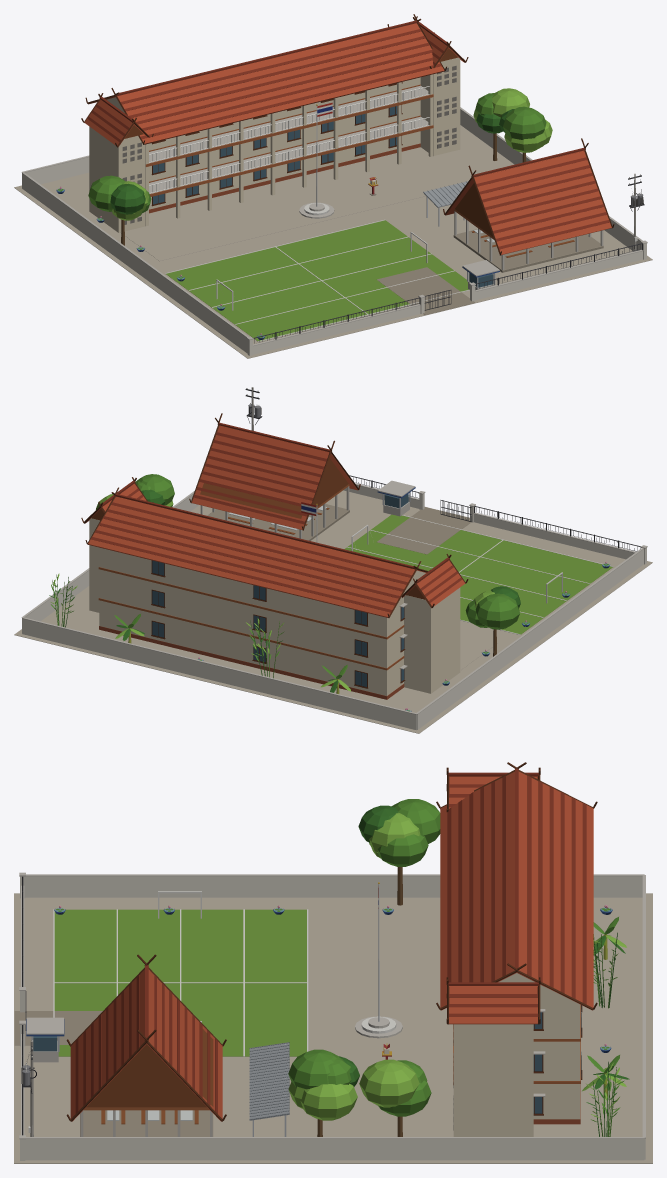
The model's file is school.glb.
3 renders of one model, top to bottom at view 1: azimuth 30°, elevation 25°; view 2: azimuth 150°, elevation 25°; view 3: azimuth 270°, elevation 25°, orthographic. The views are drawn at different scales.
Parts seen in each view (by area): view 1: body, windows; view 2: body, windows; view 3: body, windows.
Part boxes in pixels (x1,y1,x2,y2): body: [14, 14, 652, 358]; windows: [153, 106, 493, 287]; body: [14, 387, 652, 733]; windows: [152, 493, 408, 686]; body: [14, 762, 652, 1163]; windows: [33, 1005, 581, 1113].
Size of the model in its own units: 50.39 by 13.78 by 47.9.
